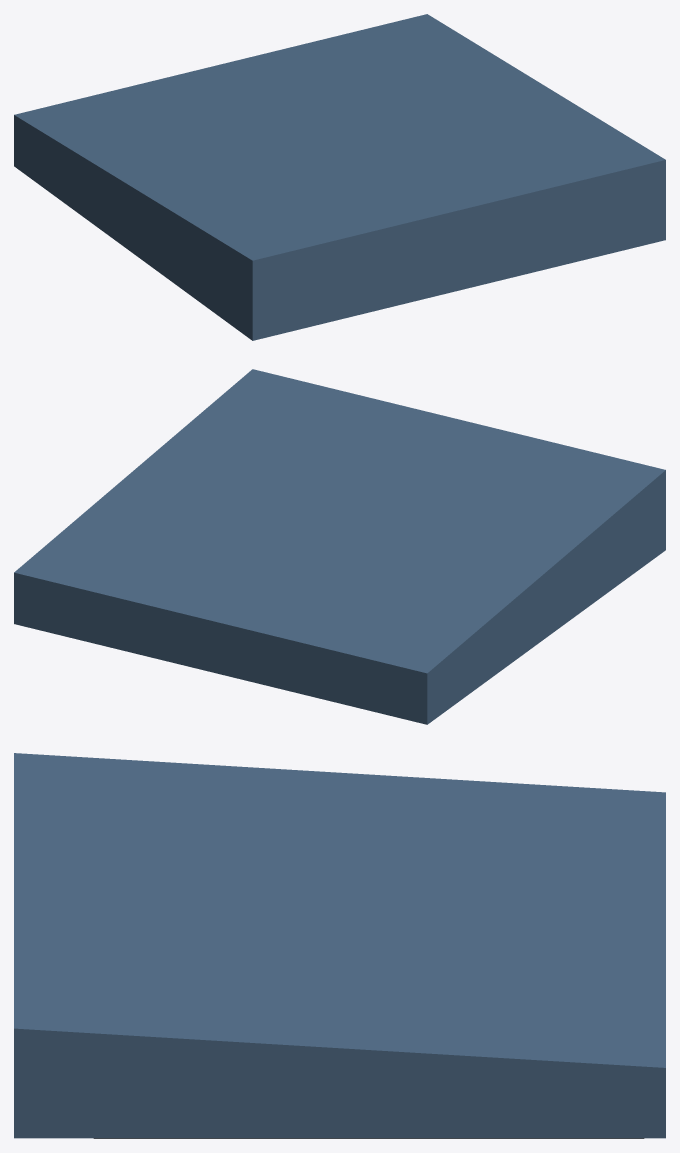
File: step_01.glb
The picture shows the model from 3 angles, top to bottom: view 1: azimuth 30°, elevation 25°; view 2: azimuth 150°, elevation 25°; view 3: azimuth 270°, elevation 25°; orthographic projection. The views are drawn at different scales.
Visible parts, largest first — view 1: part__cushion cover; view 2: part__cushion cover; view 3: part__cushion cover.
Boxes of the visible parts, x1,y1,x2,y2 form: part__cushion cover: [14, 14, 665, 340]; part__cushion cover: [14, 369, 665, 724]; part__cushion cover: [14, 753, 665, 1138].
Size of the model in its own units: 450 by 85 by 450.
